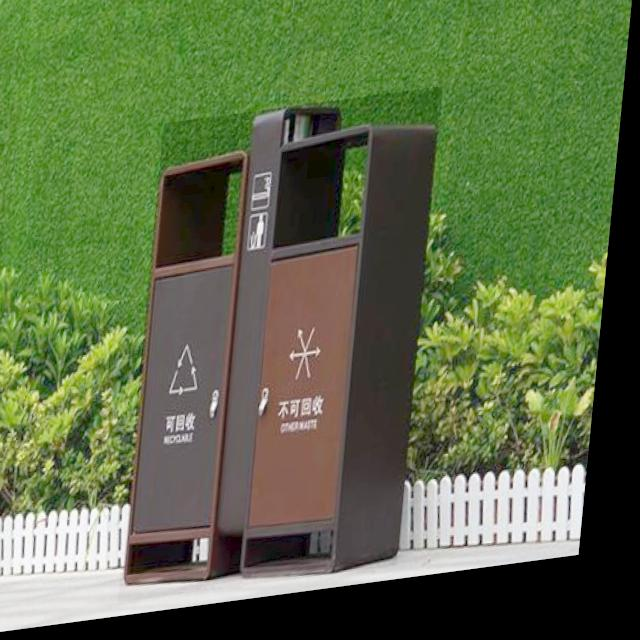garbage_bin: (131, 99, 446, 607)
